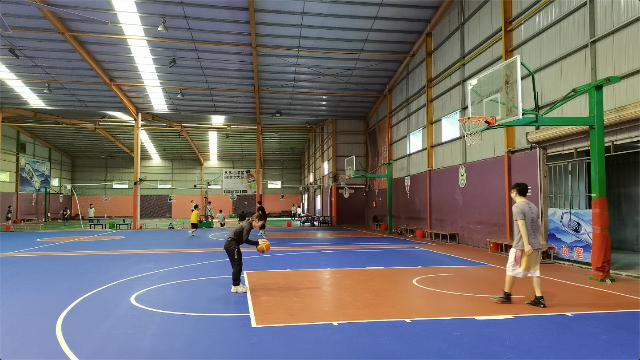ball: (256, 237, 270, 252)
basket: (458, 114, 486, 144)
